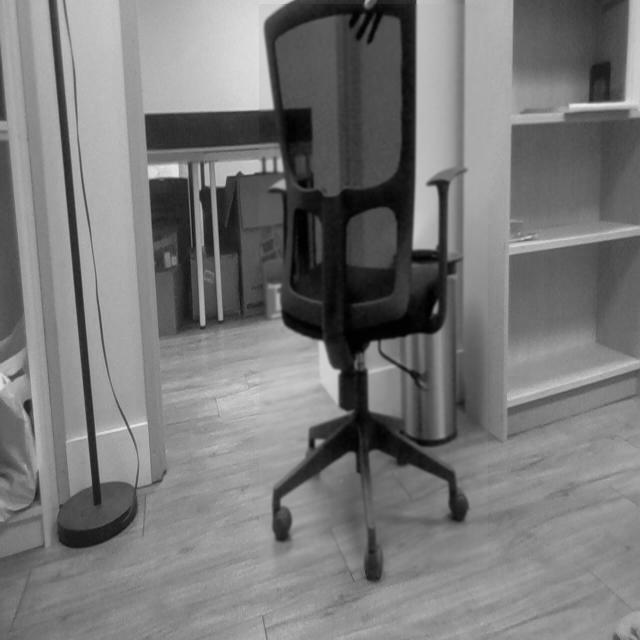chair: (259, 4, 489, 572)
